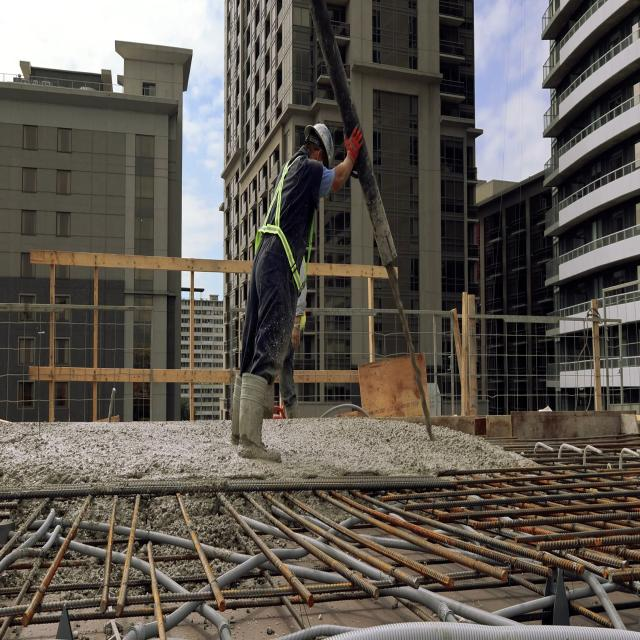Boots: (238, 368, 286, 471)
Gloves: (342, 121, 363, 169)
Helmet: (308, 123, 336, 163)
Vest: (256, 154, 332, 278)
